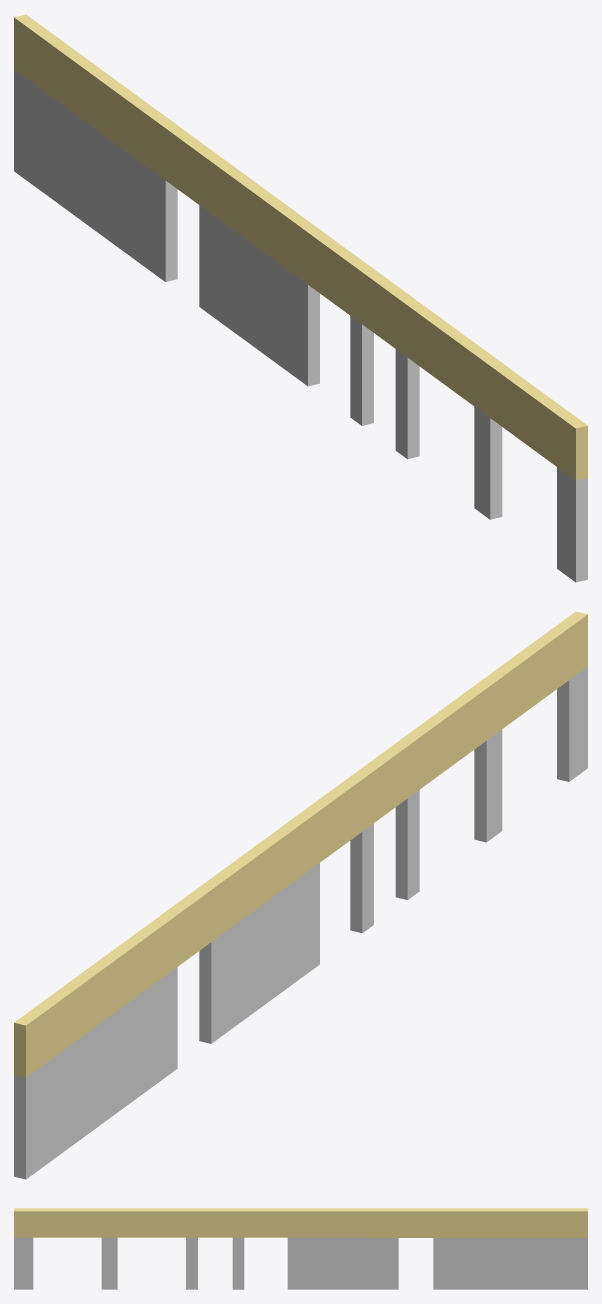
File: Level_3_InnerWall_02.fbx
3 renders of one model, top to bottom at view 1: azimuth 30°, elevation 25°; view 2: azimuth 150°, elevation 25°; view 3: azimuth 270°, elevation 25°, orthographic. The views are drawn at different scales.
Visible parts, largest first — view 1: L3_UpperWalls_1; view 2: L3_UpperWalls_1; view 3: L3_UpperWalls_1.
Boxes of the visible parts, x1,y1,x2,y2 form: L3_UpperWalls_1: [14, 14, 587, 582]; L3_UpperWalls_1: [14, 611, 587, 1179]; L3_UpperWalls_1: [14, 1208, 587, 1289].
Bounding box in the file's own units: 24.86 × 302 × 2000.
